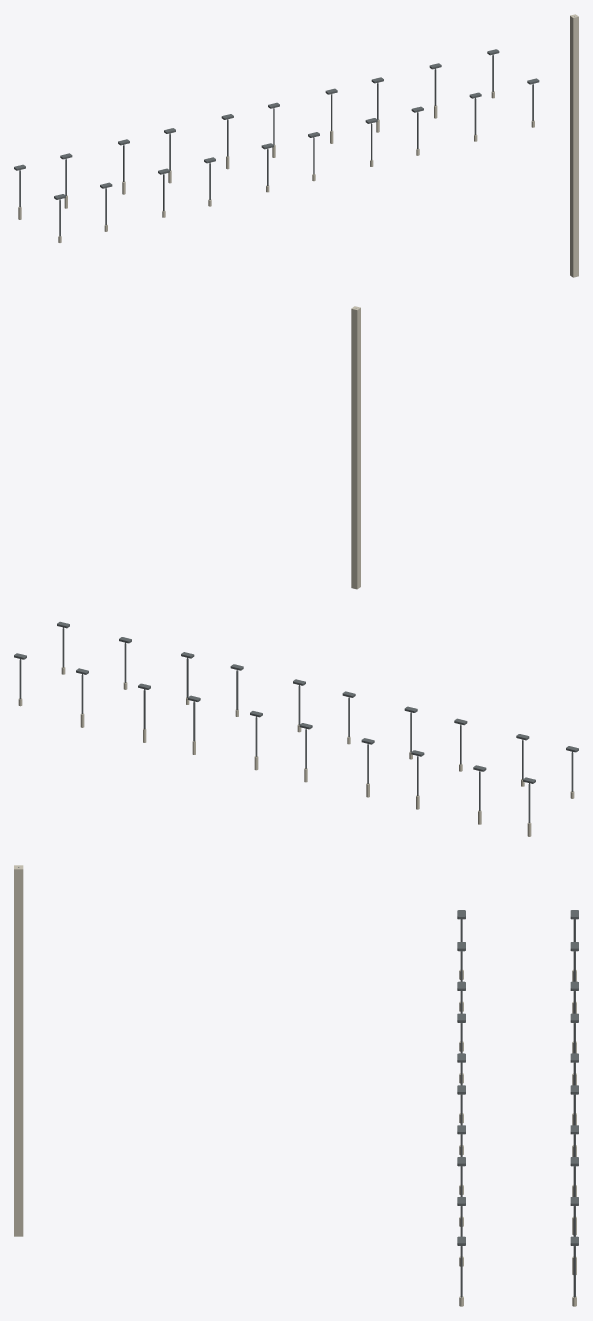
The picture shows the model from 3 angles, top to bottom: view 1: azimuth 30°, elevation 25°; view 2: azimuth 150°, elevation 25°; view 3: azimuth 270°, elevation 25°; orthographic projection. The views are drawn at different scales.
Parts seen in each view (by area): view 1: buildings_s_-8_-4_Warm_Limestone, buildings_s_-8_-4_Dark_Metal; view 2: buildings_s_-8_-4_Warm_Limestone, buildings_s_-8_-4_Dark_Metal; view 3: buildings_s_-8_-4_Warm_Limestone, buildings_s_-8_-4_Dark_Metal.
Boxes of the visible parts, <box> form: buildings_s_-8_-4_Warm_Limestone: <box>18,14,578,277</box>; buildings_s_-8_-4_Dark_Metal: <box>14,16,574,236</box>; buildings_s_-8_-4_Warm_Limestone: <box>18,306,574,836</box>; buildings_s_-8_-4_Dark_Metal: <box>14,308,578,823</box>; buildings_s_-8_-4_Warm_Limestone: <box>14,865,576,1306</box>; buildings_s_-8_-4_Dark_Metal: <box>18,867,578,1297</box>.
Size of the model in its own units: 83.7 by 43 by 59.95.
